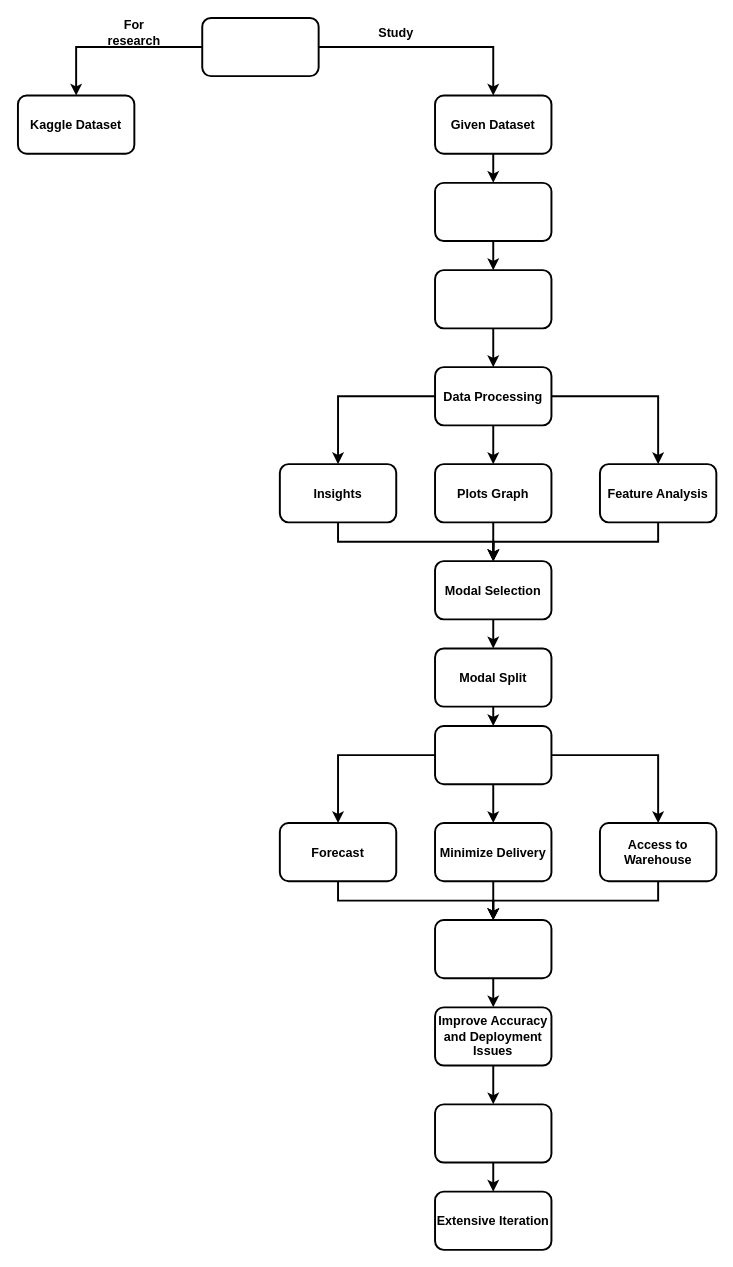
Some shapes in this 733 by 1267 pixel diagram are drawn without their labels. The centre of each missing label's shape, as x and y in pixels:
"Analyse Raw Data Get Insight" belongs at (493,211).
"Data Gather" belongs at (260,46).
"Geospatial Analysis" belongs at (493,299).
"Hypertuning & Performance Evalution" belongs at (493,1133).
"Modal Train" belongs at (493,755).
"Scalability & Adaptability" belongs at (493,949).
